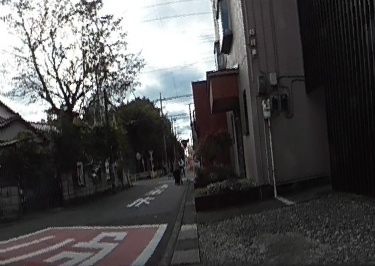person: (171, 158, 182, 185)
